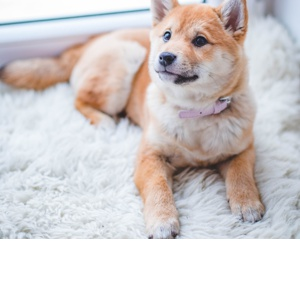dog: (1, 0, 286, 229)
